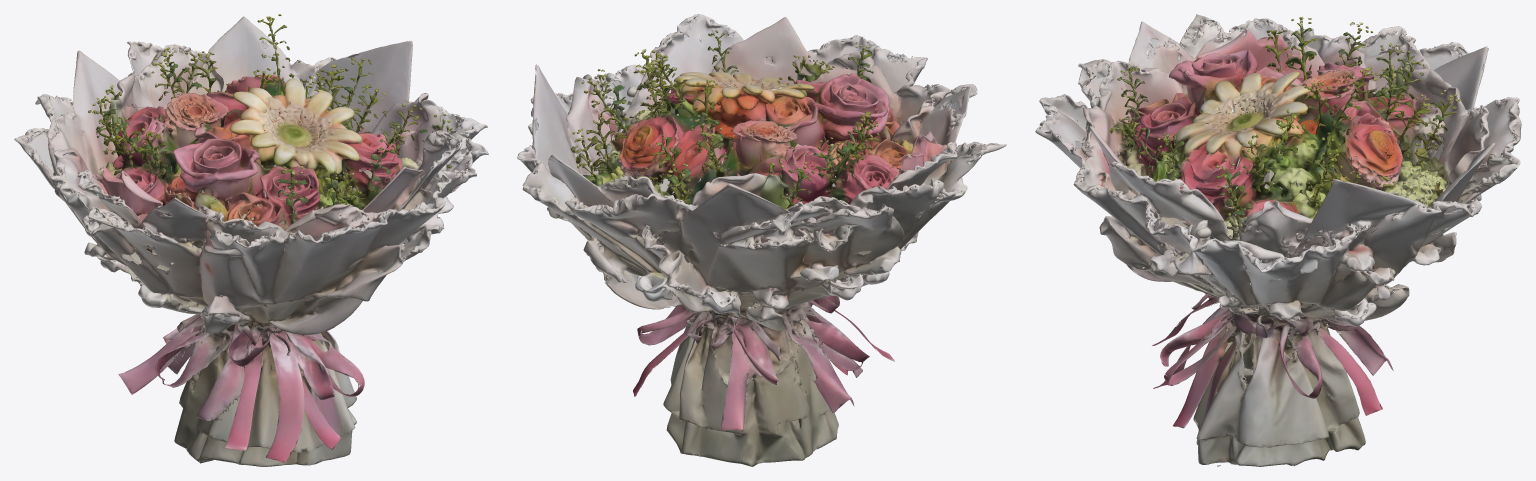
Rendered from sample_2026-10-17T110801.446.glb.
3 views of the same model, side by side, from view 1: azimuth 30°, elevation 25°; view 2: azimuth 150°, elevation 25°; view 3: azimuth 270°, elevation 25° (orthographic). The views are drawn at different scales.
Parts seen in each view (by area): view 1: world; view 2: world; view 3: world.
Boxes of the visible parts, box(x1,y1,x2,y2) form: world: box(14, 14, 488, 466); world: box(517, 14, 1006, 466); world: box(1035, 14, 1521, 466).
Bounding box in the file's own units: 0.9988 × 0.8728 × 0.9374.
1 material, 1 textured.
